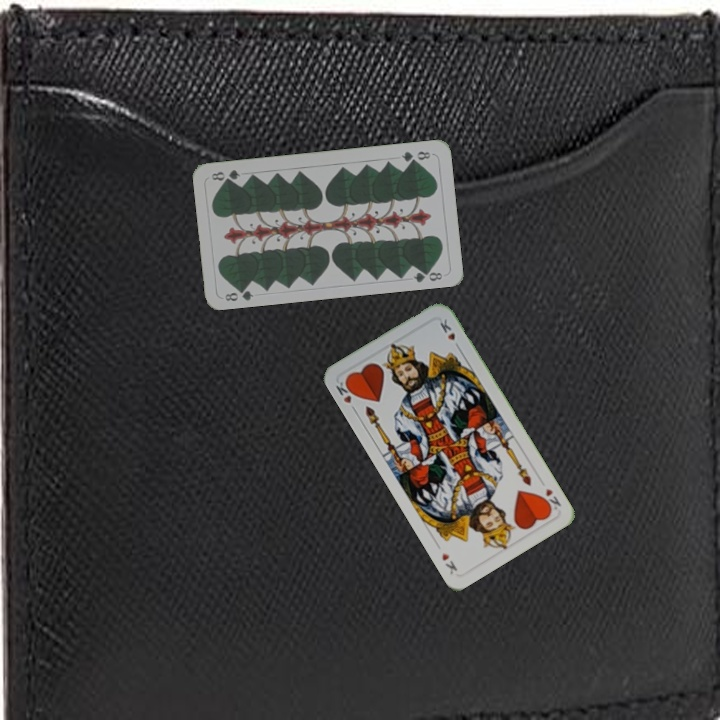G8: (221, 283, 256, 304), (398, 147, 433, 165)
HK: (332, 375, 359, 415), (538, 484, 564, 515)
